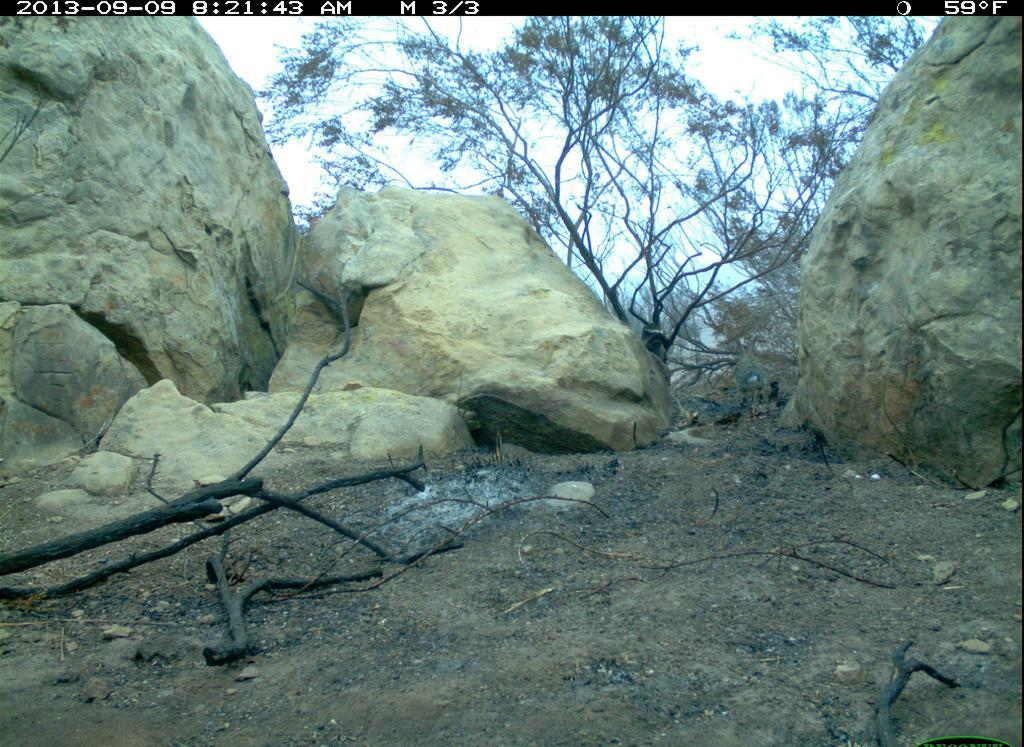rabbit: (724, 327, 777, 402)
